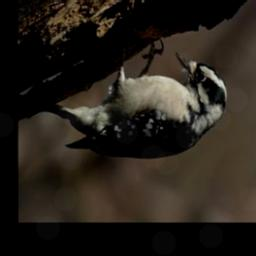Woodpecker: (38, 37, 226, 158)
